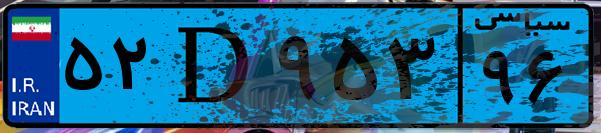2: (110, 28, 158, 98)
3: (385, 28, 445, 110)
5: (330, 28, 385, 110), (57, 26, 110, 100)
6: (525, 38, 570, 115)
9: (270, 28, 330, 110), (475, 38, 525, 113)
D: (158, 12, 270, 120)
